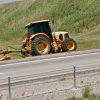Tractor: (16, 12, 80, 59)
